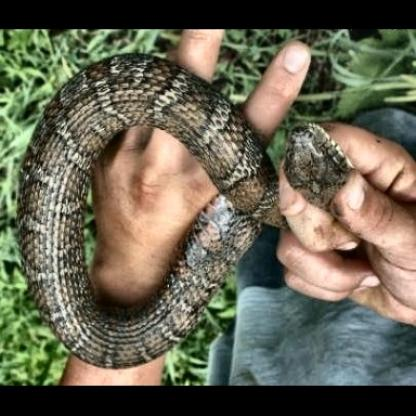Snake: (9, 62, 412, 366)
